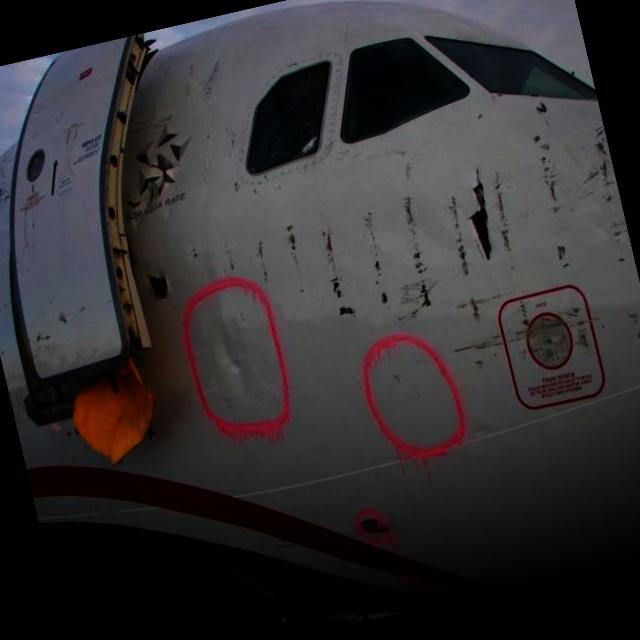crack: (455, 155, 508, 264)
dent: (208, 322, 254, 382)
